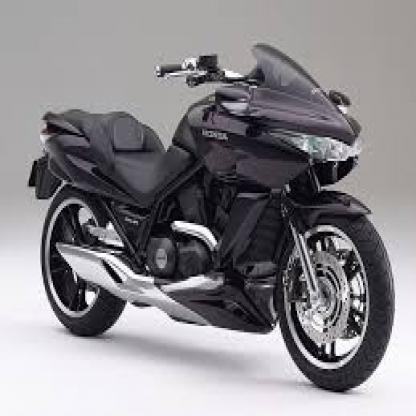Motorcycle: (20, 27, 395, 396)
